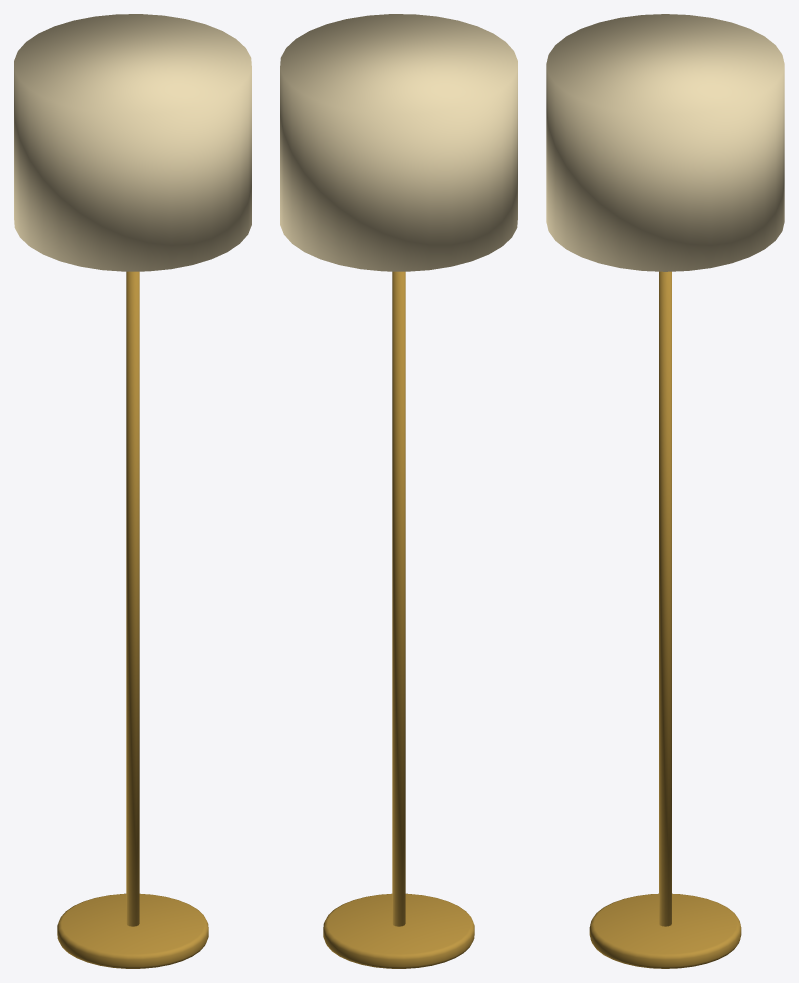
File: frank_floor_lamp.glb
The picture shows the model from 3 angles, left to right: view 1: azimuth 30°, elevation 25°; view 2: azimuth 150°, elevation 25°; view 3: azimuth 270°, elevation 25°; orthographic projection.
Visible parts, largest first — view 1: FloorLamp_LampShade, FloorLamp_LampBrass; view 2: FloorLamp_LampShade, FloorLamp_LampBrass; view 3: FloorLamp_LampShade, FloorLamp_LampBrass.
Part boxes in pixels (<box>): FloorLamp_LampShade: <box>14,14,251,271</box>; FloorLamp_LampBrass: <box>57,271,208,968</box>; FloorLamp_LampShade: <box>280,14,517,271</box>; FloorLamp_LampBrass: <box>323,271,474,968</box>; FloorLamp_LampShade: <box>546,14,784,271</box>; FloorLamp_LampBrass: <box>589,271,741,968</box>.
Size of the model in its own units: 0.44 by 1.78 by 0.44.
